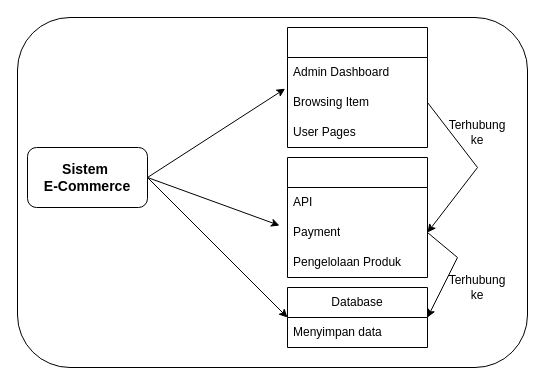
The diagram is 545 pixels wide and 385 high, and some of its shapes have lost their labels. The box of each missing label's shape, as (x1, y1, x2, y2) in pixels:
Back End: (286, 156, 428, 278)
Front End: (286, 26, 428, 148)
